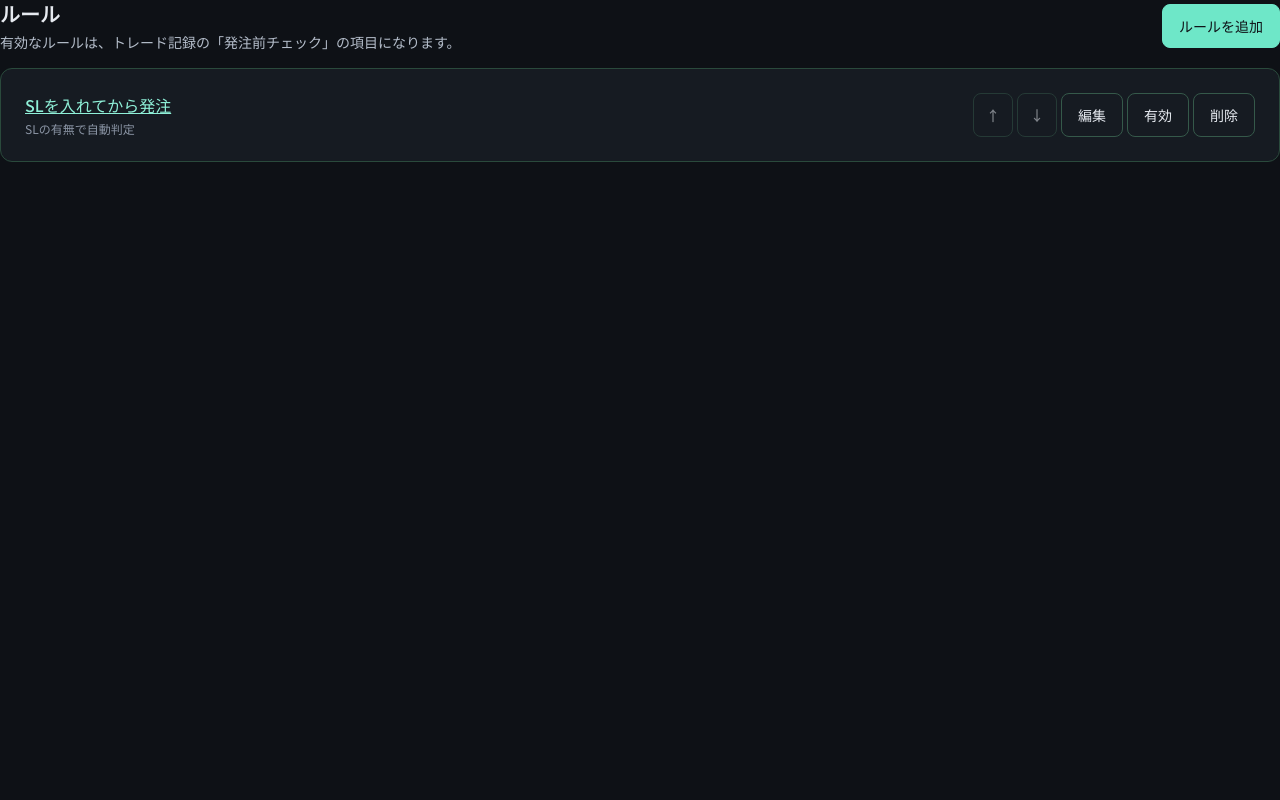
Test: ルール画面 › 有効なルールを無効にするときは確認する（キャンセルで変更しない）
The width and height of the screenshot is (1280, 800).
Later steps or results of the test are not shown.
Click the button "有効" at (1158, 115), box [1127,93,1189,137]
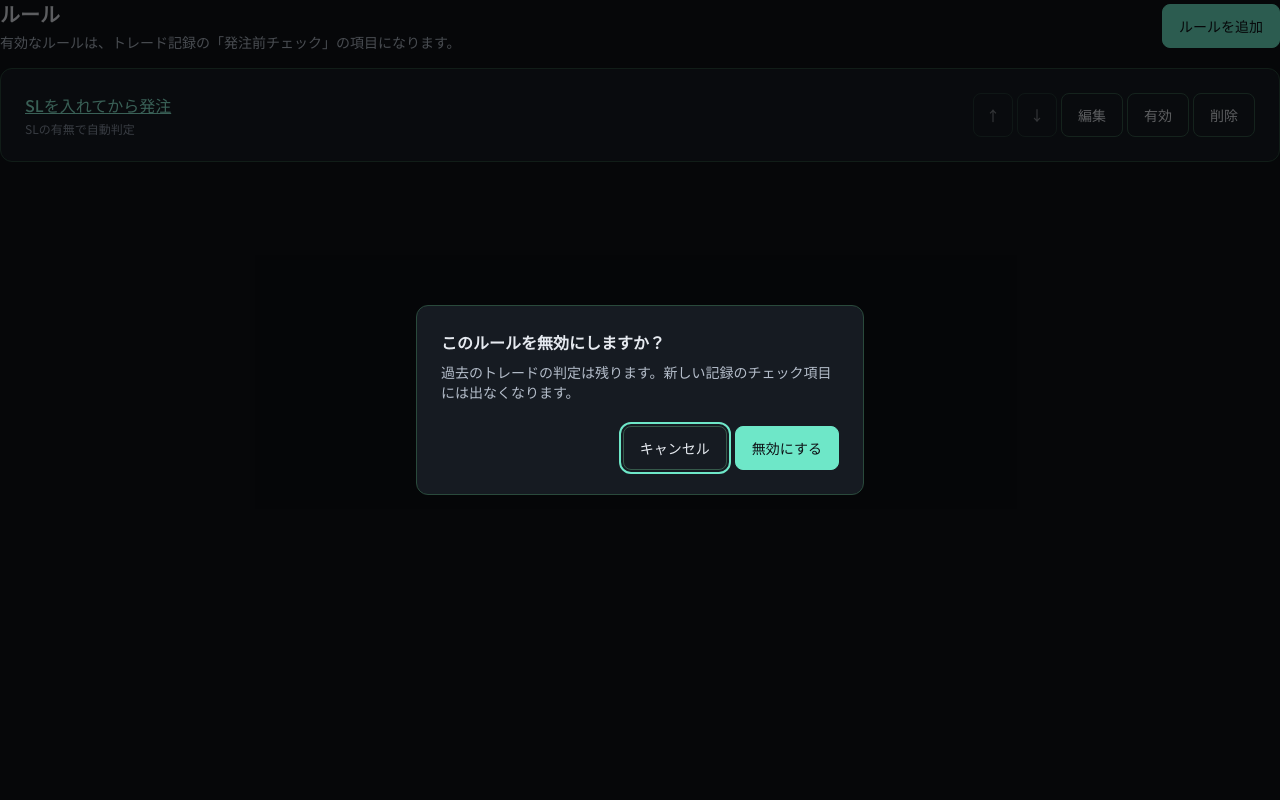
Expected: the heading "このルールを無効にしますか？" is shown, [441,330,665,354]
